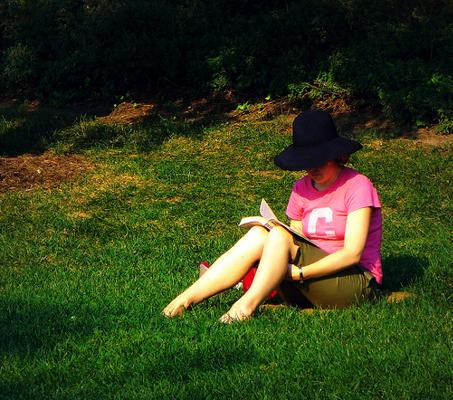person: (160, 111, 386, 325)
